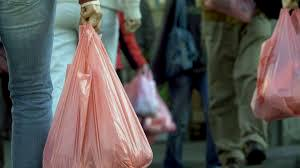Plastic: (40, 24, 157, 167)
